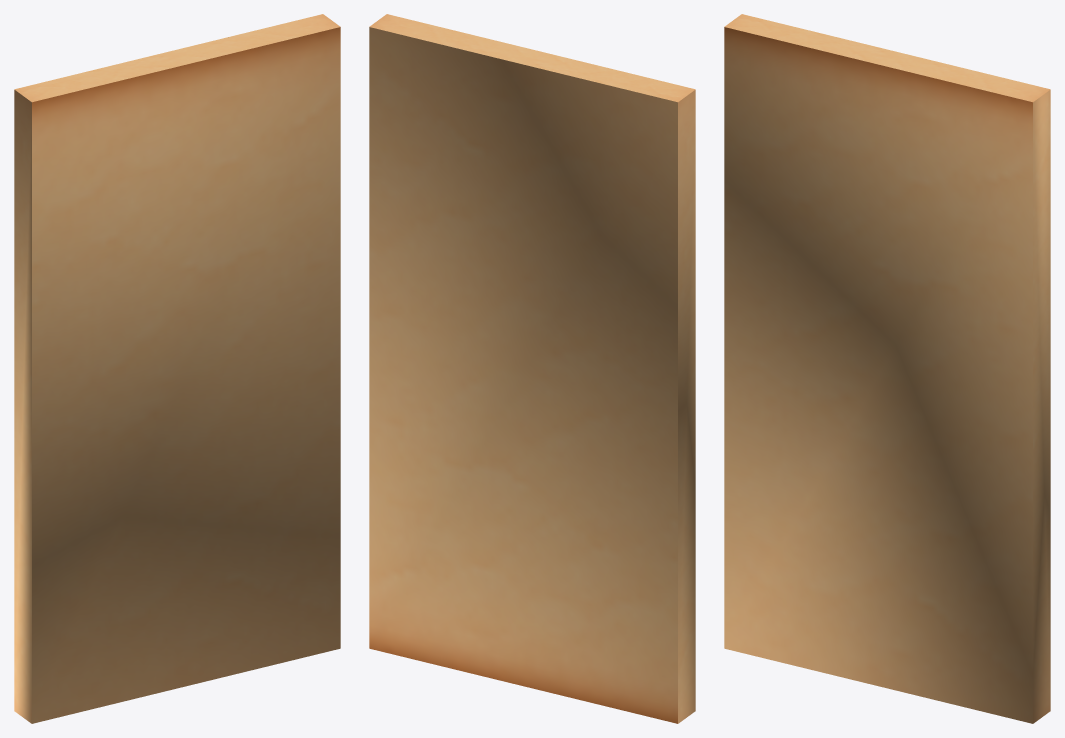
The model's file is Door_Panel_A.fbx.
3 views of the same model, side by side, from view 1: azimuth 30°, elevation 25°; view 2: azimuth 150°, elevation 25°; view 3: azimuth 330°, elevation 25° (orthographic).
Visible parts, largest first — view 1: Door_Panel_A; view 2: Door_Panel_A; view 3: Door_Panel_A.
Boxes of the visible parts, x1,y1,x2,y2 form: Door_Panel_A: (14,14,340,723); Door_Panel_A: (369,14,695,723); Door_Panel_A: (724,14,1050,723).
Size of the model in its own units: 1.01 by 1.94 by 0.1.
